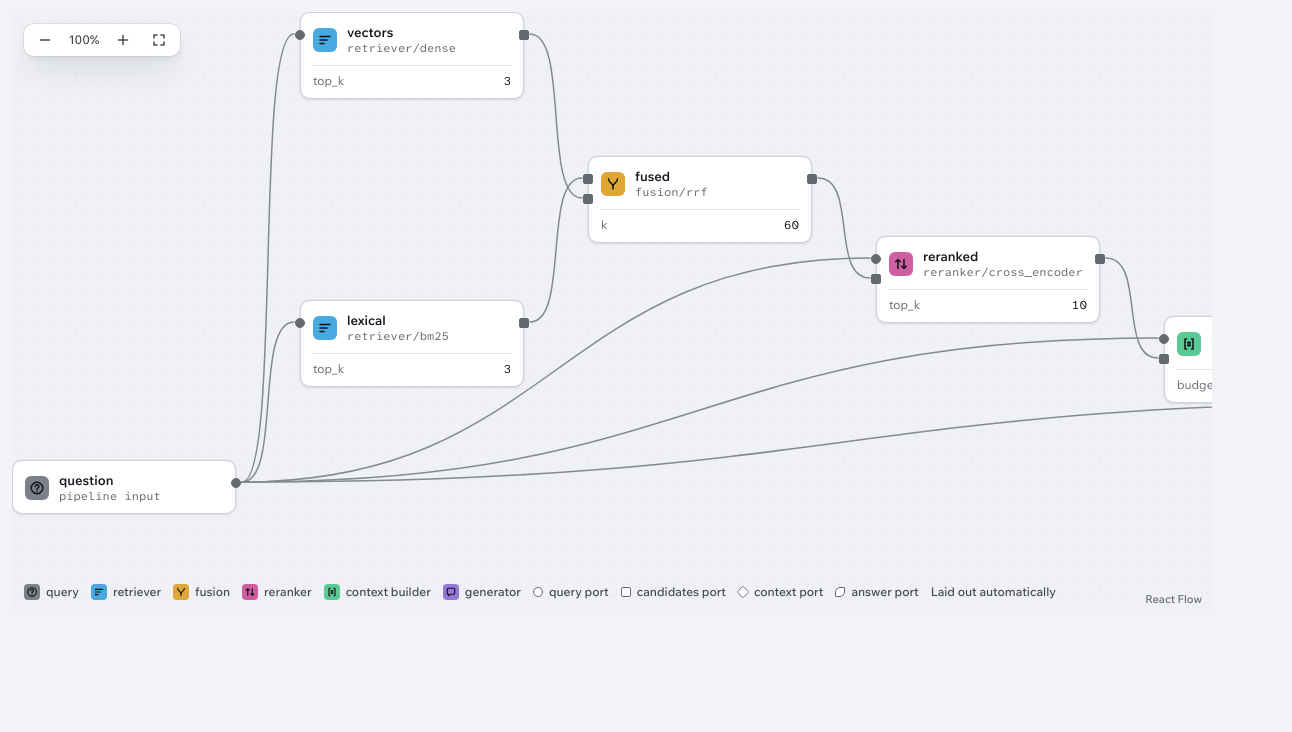
it: Canvas keyboard and selection › shows the inspector slot beside the canvas for the selected node only
This screenshot has width=1292, height=732.
Expected: the text "inspecting" is not shown
Click the element showing "reranked reranker/cross_encoder top_k 10" at [988, 280], box [876,236,1100,323]
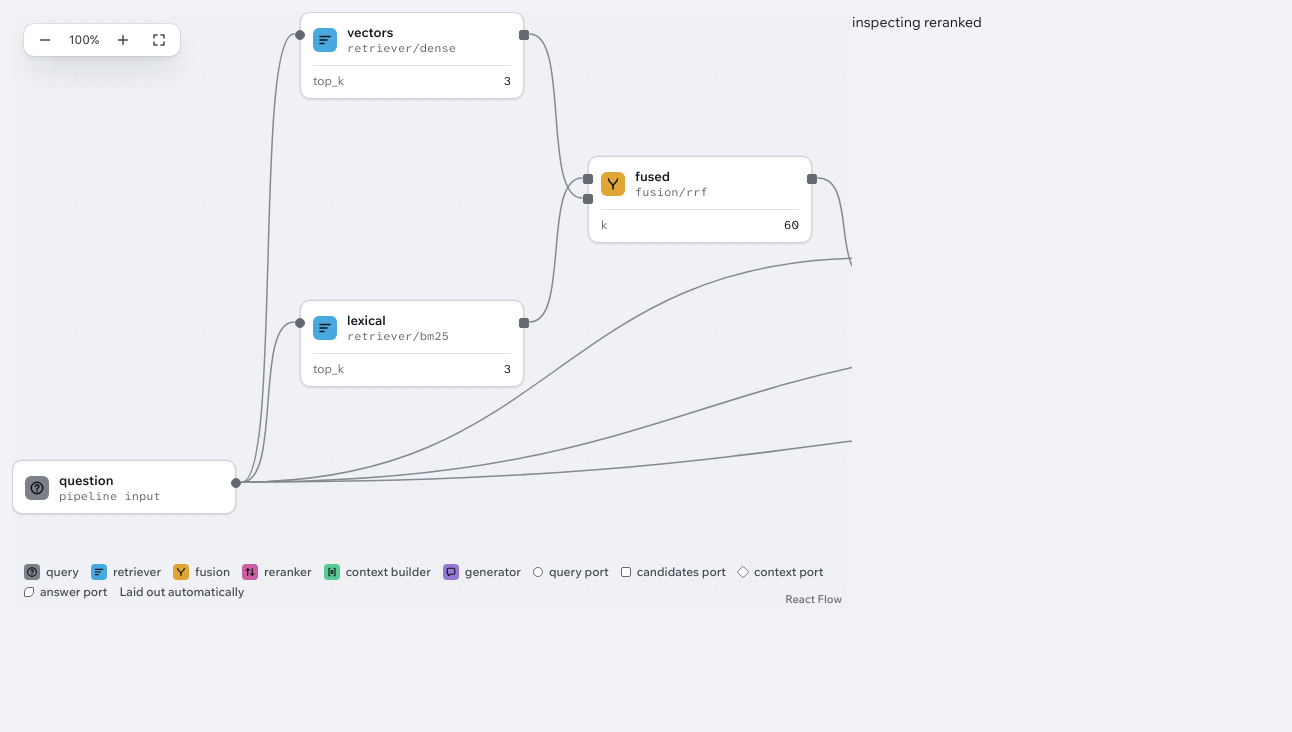
Expected: the text "inspecting reranked" is shown, [852,13,982,31]
